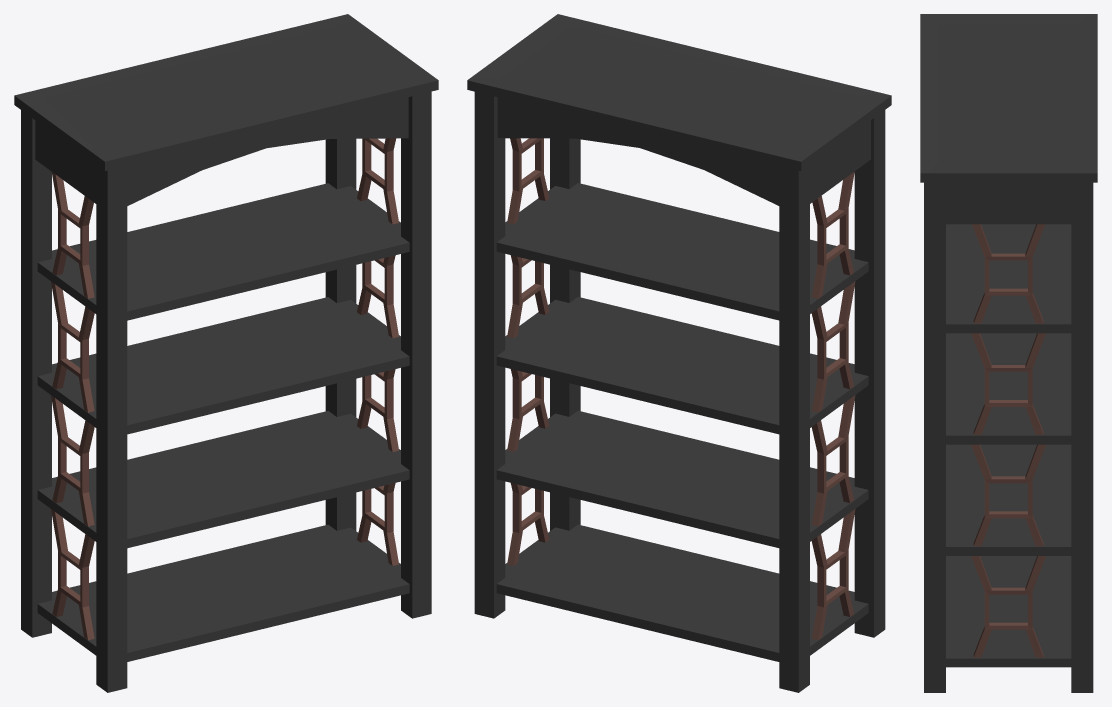
The model's file is Lounge Shelf.glb.
The picture shows the model from 3 angles, left to right: view 1: azimuth 30°, elevation 25°; view 2: azimuth 150°, elevation 25°; view 3: azimuth 270°, elevation 25°; orthographic projection. The views are drawn at different scales.
Visible parts, largest first — view 1: Shelf; view 2: Shelf; view 3: Shelf.
Part boxes in pixels (bbox=[...]): Shelf: bbox=[14, 14, 438, 692]; Shelf: bbox=[467, 14, 891, 692]; Shelf: bbox=[920, 14, 1097, 692].
Size of the model in its own units: 1.54 by 2.34 by 0.7214.
Materials: 1 (1 with a texture image).
